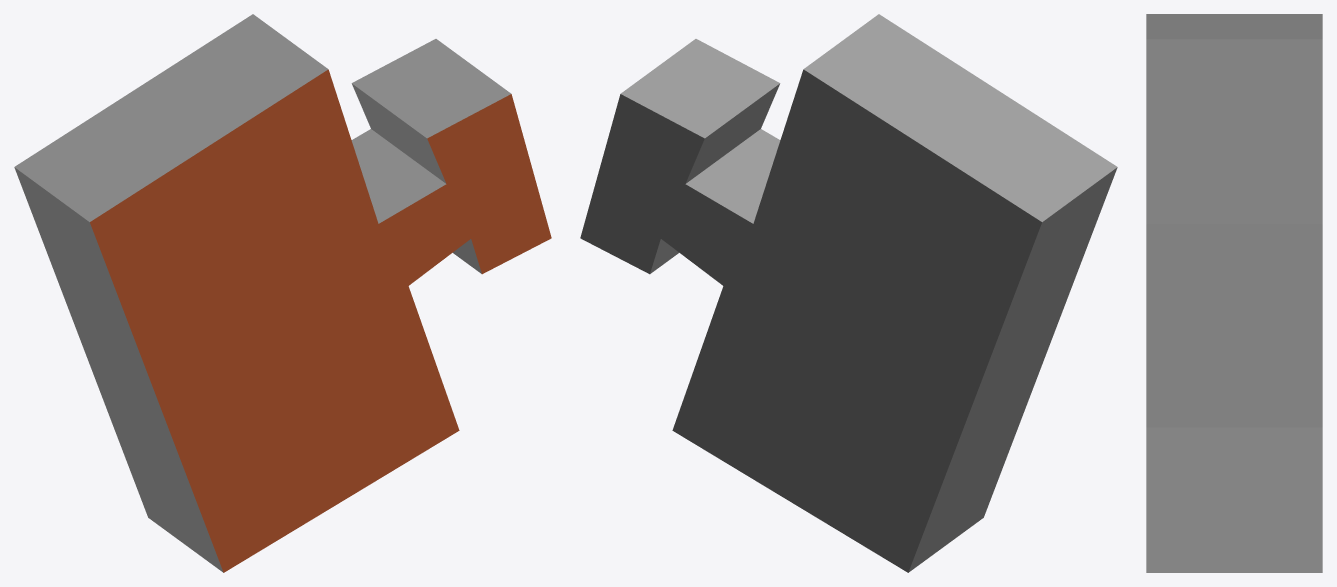
The model's file is construction_2079_assumed_A_Casa_h6m.obj.
3 views of the same model, side by side, from view 1: azimuth 30°, elevation 25°; view 2: azimuth 150°, elevation 25°; view 3: azimuth 270°, elevation 25° (orthographic). The views are drawn at different scales.
Parts seen in each view (by area): view 1: construction_2079_assumed_A_Casa; view 2: construction_2079_assumed_A_Casa; view 3: construction_2079_assumed_A_Casa.
Part boxes in pixels (x1,y1,x2,y2): construction_2079_assumed_A_Casa: [14, 14, 551, 572]; construction_2079_assumed_A_Casa: [580, 14, 1117, 572]; construction_2079_assumed_A_Casa: [1146, 14, 1322, 572].
Bounding box in the file's own units: 21.19 × 20.95 × 6.
